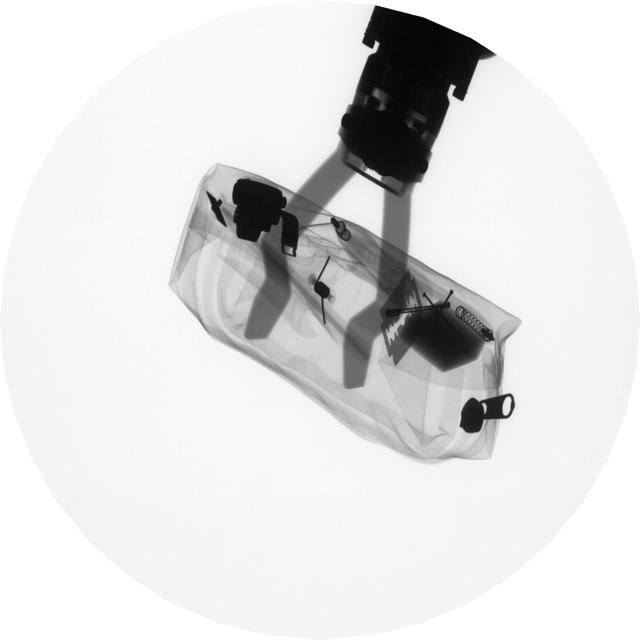razor: (374, 267, 432, 374)
